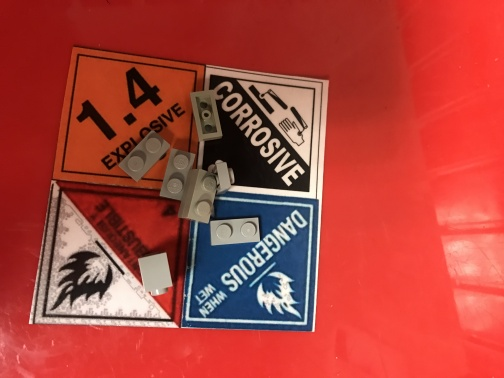Corrosive: (197, 65, 324, 200)
DangerousWhenWet: (186, 191, 315, 332)
Explosive: (52, 46, 206, 191)
SpontaneouslyCombustible: (34, 182, 194, 328)
